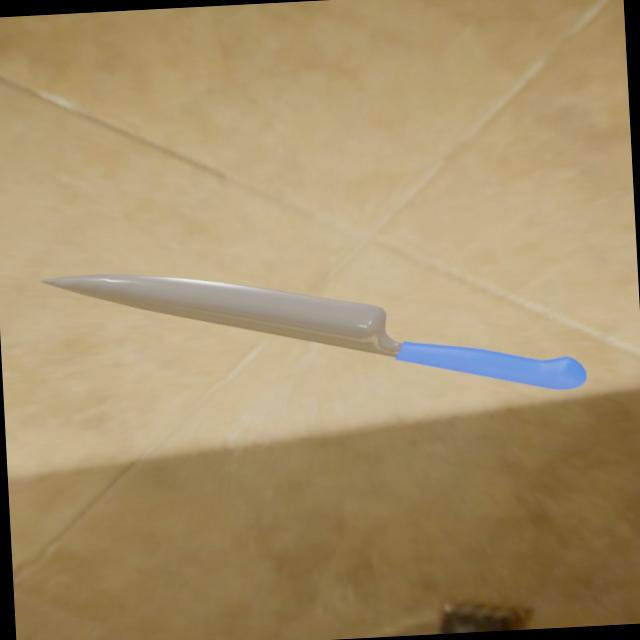knife: (394, 331, 590, 398)
